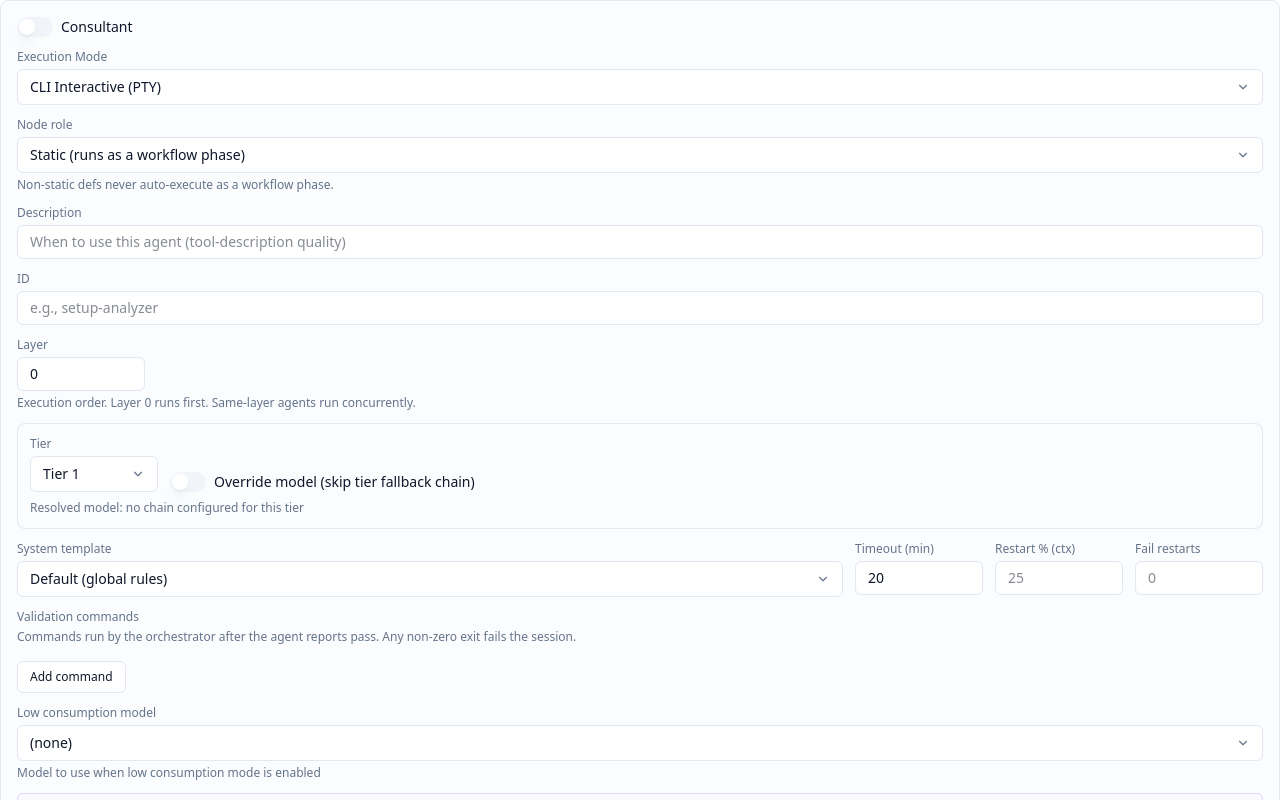
Test case: AgentDefForm — cli_interactive execution mode › dropdown option list when apiModeEnabled=true › cli_interactive is at position 1 (index 0)
The width and height of the screenshot is (1280, 800).
What coordinates should you click on to do the following:
click the button "CLI Interactive (PTY)"
I would click on:
 (95, 86)
Its box is [17,69,1263,105].
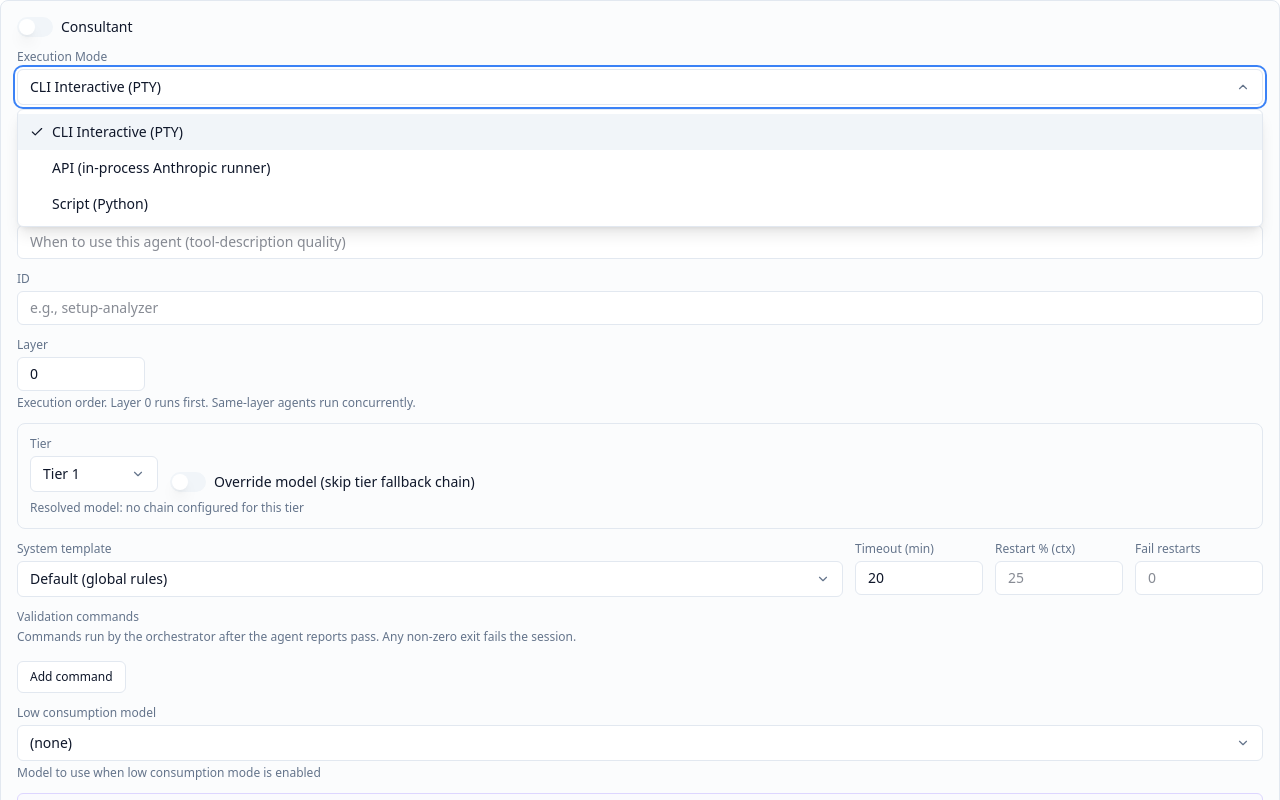
Expected: the 2nd text with class "truncate" reads "CLI Interactive (PTY)", [52,122,183,141]
